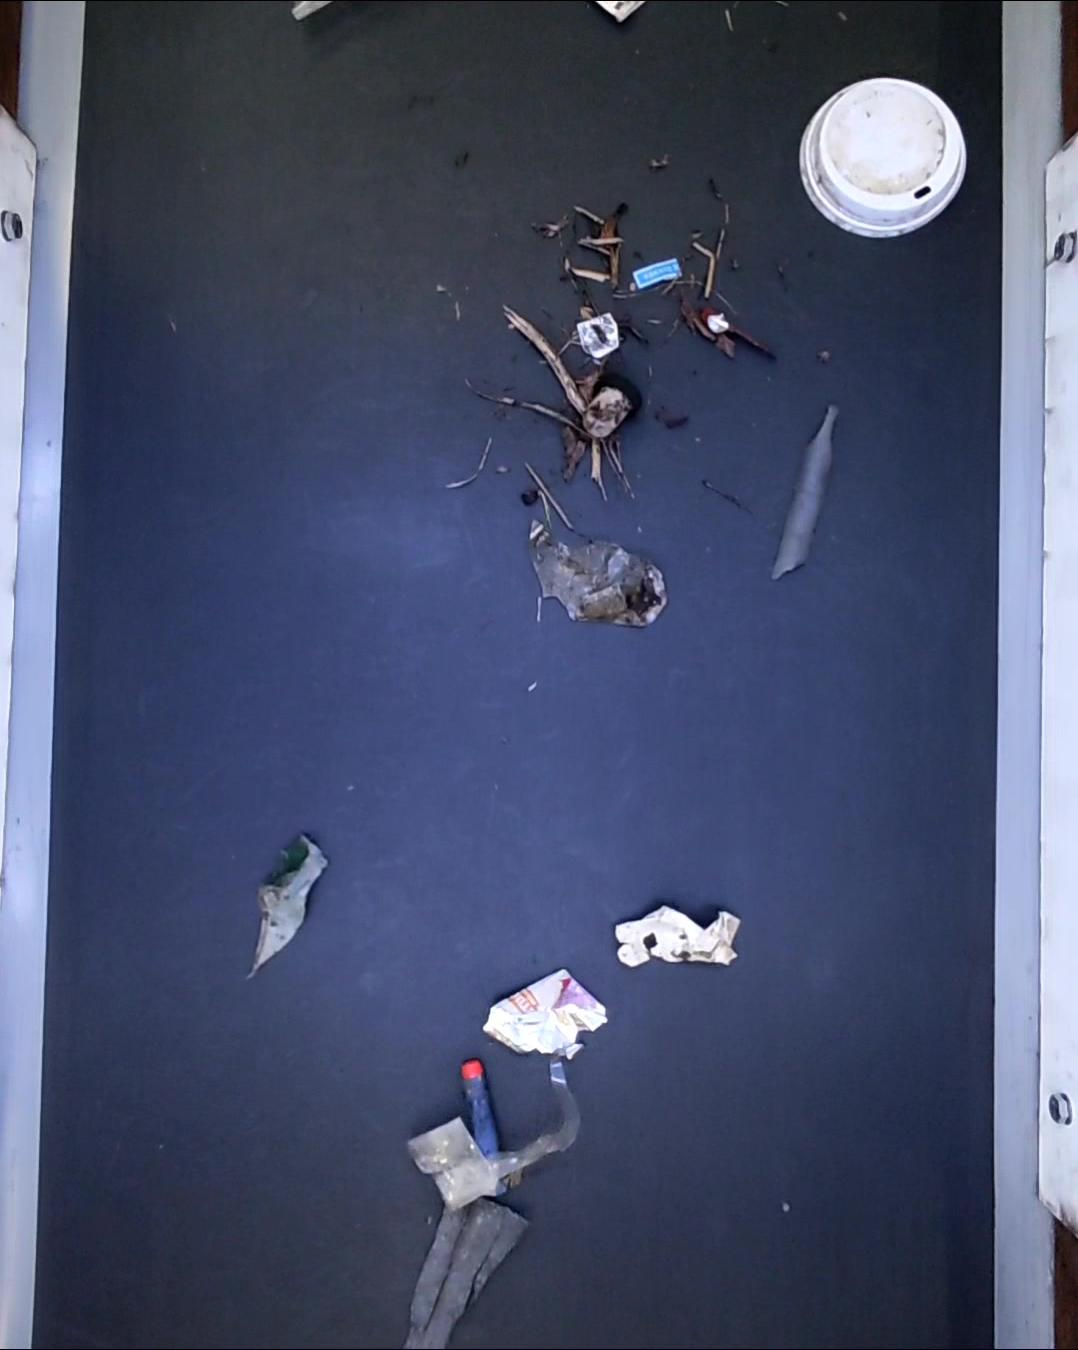Plastic folies of stukken daarvan 2.5- 50 cm: (407, 1050, 586, 1211), (535, 523, 665, 629), (246, 835, 330, 981)
Snoep snack en chips verpakkingen: (483, 967, 610, 1060)
